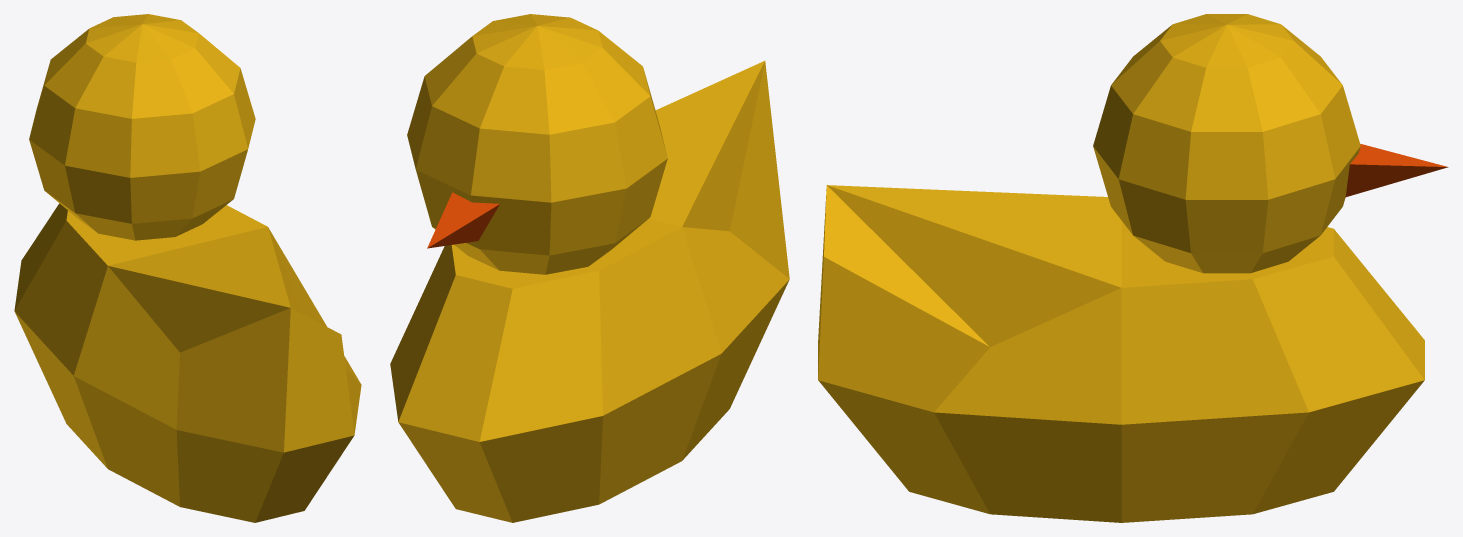
File: rubberduck.fbx
3 views of the same model, side by side, from view 1: azimuth 30°, elevation 25°; view 2: azimuth 150°, elevation 25°; view 3: azimuth 270°, elevation 25° (orthographic). The views are drawn at different scales.
Parts seen in each view (by area): view 1: Torus; view 2: Torus, Cone; view 3: Torus, Cone.
Part boxes in pixels (bbox=[...]): Torus: bbox=[14, 14, 361, 522]; Torus: bbox=[390, 14, 789, 522]; Cone: bbox=[427, 192, 499, 248]; Torus: bbox=[818, 14, 1424, 522]; Cone: bbox=[1345, 144, 1448, 196].
Bounding box in the file's own units: 27.5 × 45.07 × 56.84.
